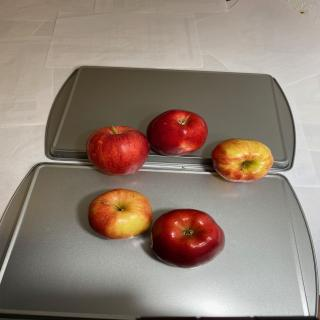Apple: (150, 208, 225, 269), (88, 188, 152, 240), (86, 125, 150, 176), (146, 109, 208, 157), (211, 138, 274, 183)
